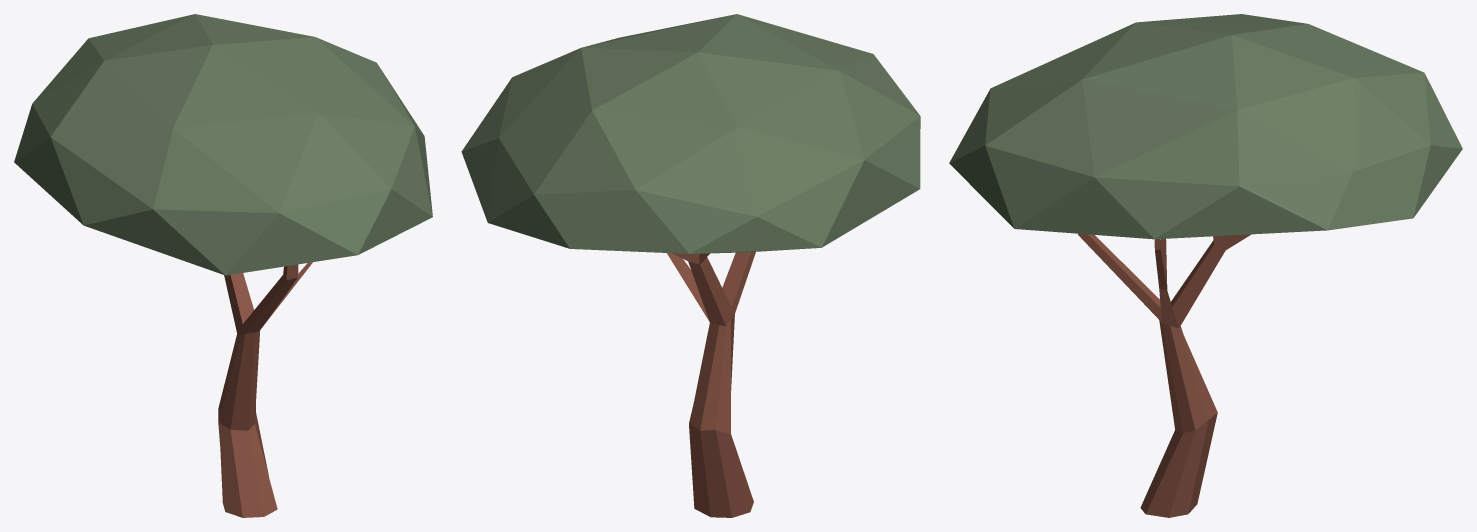
Rendered from Trees1.glb.
3 views of the same model, side by side, from view 1: azimuth 30°, elevation 25°; view 2: azimuth 150°, elevation 25°; view 3: azimuth 270°, elevation 25° (orthographic). The views are drawn at different scales.
Parts seen in each view (by area): view 1: Icosphere, Cube; view 2: Icosphere, Cube; view 3: Icosphere, Cube.
Part boxes in pixels (x1,y1,x2,y2): Icosphere: (14, 14, 432, 275); Cube: (218, 262, 312, 517); Icosphere: (461, 14, 920, 253); Cube: (667, 252, 755, 517); Icosphere: (949, 14, 1462, 239); Cube: (1078, 233, 1251, 517).
Bounding box in the file's own units: 19.66 × 24.31 × 24.15.
